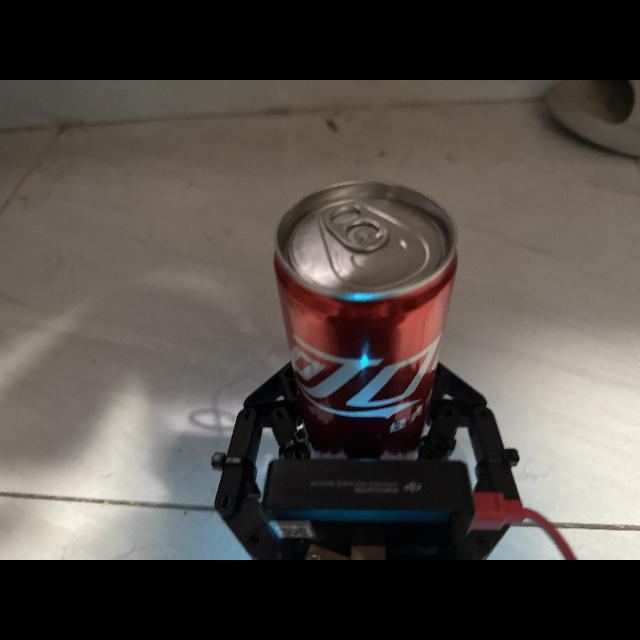Cola: (264, 171, 466, 439)
